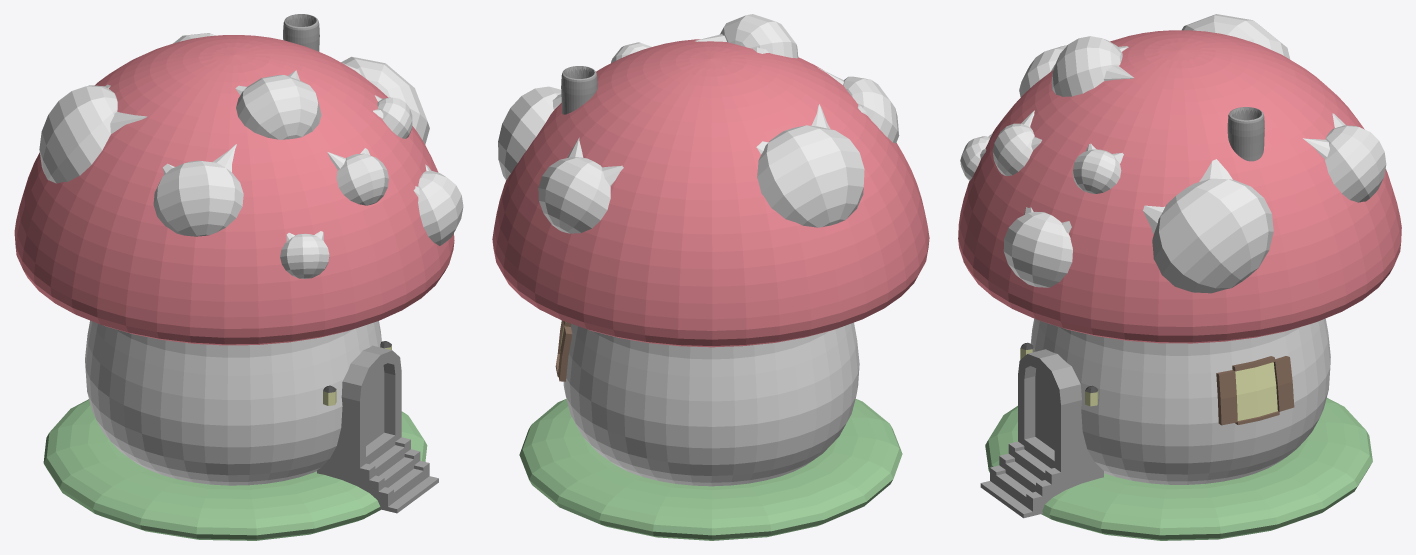
The model's file is house.fbx.
3 views of the same model, side by side, from view 1: azimuth 30°, elevation 25°; view 2: azimuth 150°, elevation 25°; view 3: azimuth 270°, elevation 25° (orthographic).
Visible parts, largest first — view 1: light; view 2: light; view 3: light.
Part boxes in pixels (x1,y1,x2,y2): light: [14, 14, 463, 540]; light: [492, 14, 929, 540]; light: [958, 14, 1401, 540].
Size of the model in its own units: 5.18 by 5.48 by 5.14.
